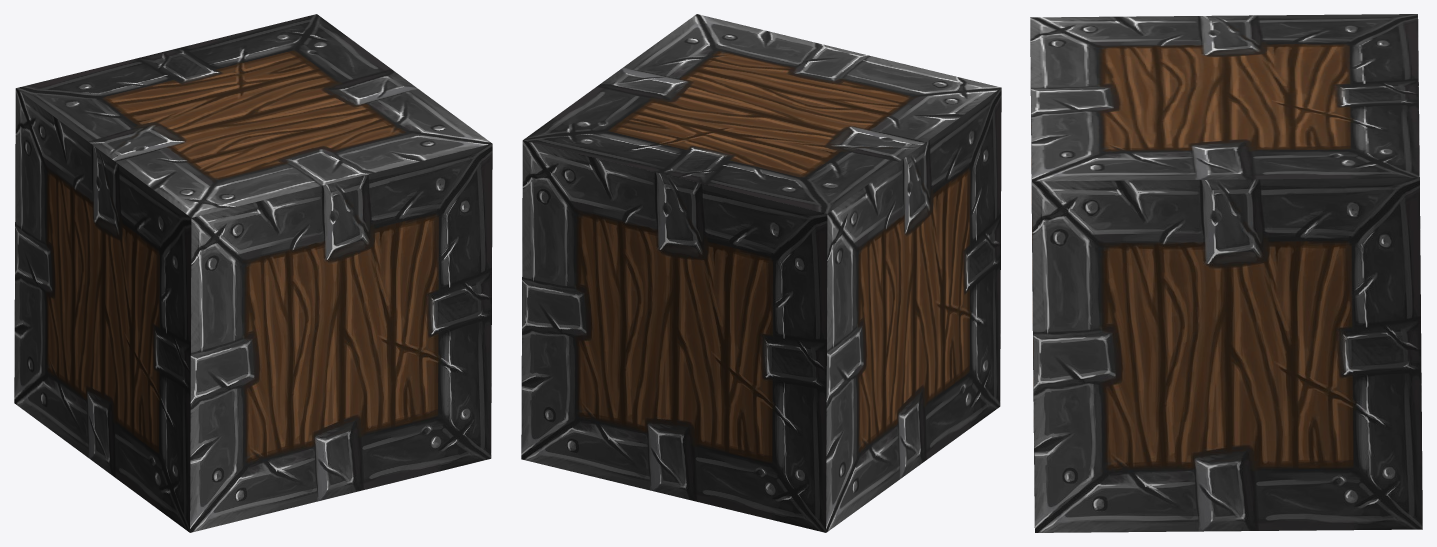
File: Crate.fbx
3 renders of one model, left to right at view 1: azimuth 30°, elevation 25°; view 2: azimuth 150°, elevation 25°; view 3: azimuth 270°, elevation 25°, orthographic. The views are drawn at different scales.
Visible parts, largest first — view 1: Cube.1410; view 2: Cube.1410; view 3: Cube.1410.
Part boxes in pixels (bbox=[...]): Cube.1410: bbox=[14, 14, 492, 532]; Cube.1410: bbox=[521, 14, 1001, 532]; Cube.1410: bbox=[1030, 14, 1422, 532].
Bounding box in the file's own units: 0.9323 × 0.9353 × 0.9394.
1 material, 1 textured.
